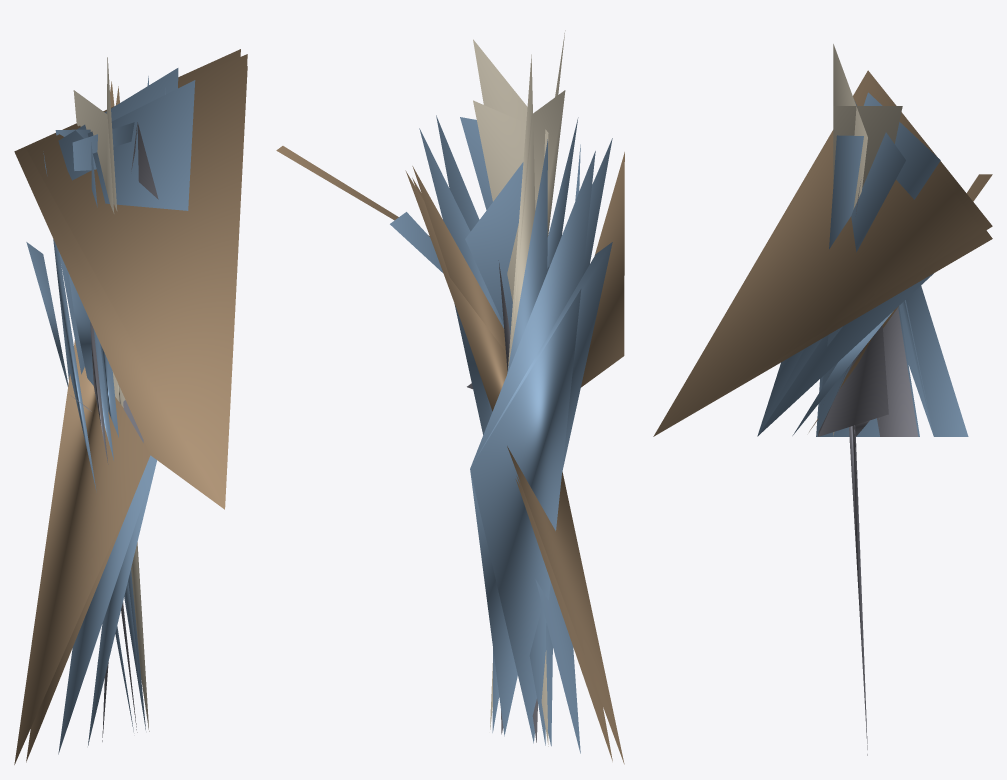
Rendered from player_fish.glb.
3 renders of one model, left to right at view 1: azimuth 30°, elevation 25°; view 2: azimuth 150°, elevation 25°; view 3: azimuth 270°, elevation 25°, orthographic. The views are drawn at different scales.
Visible parts, largest first — view 1: player_fish; view 2: player_fish; view 3: player_fish.
Boxes of the visible parts, bbox=[...] form: player_fish: bbox=[14, 49, 247, 764]; player_fish: bbox=[276, 30, 624, 764]; player_fish: bbox=[653, 44, 992, 755].
Size of the model in its own units: 0.98 by 2.3 by 0.98.
